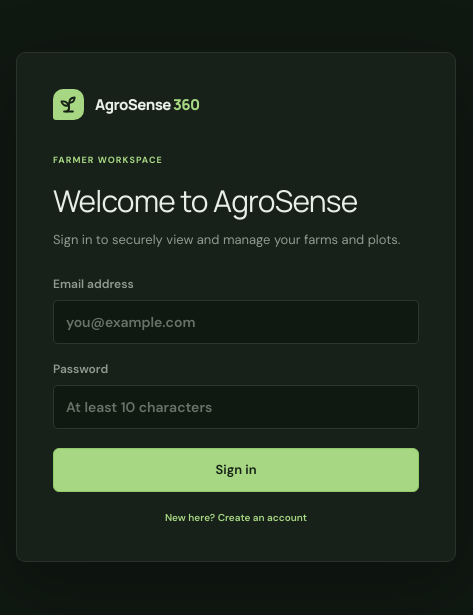
Test: App navigation › shows a clear message when the login API cannot be reached
The image size is (473, 615).
Type "farmer@example.com" into the field labelled "Email address".
click(236, 322); type("farmer@example.com")  # box [53,300,419,344]
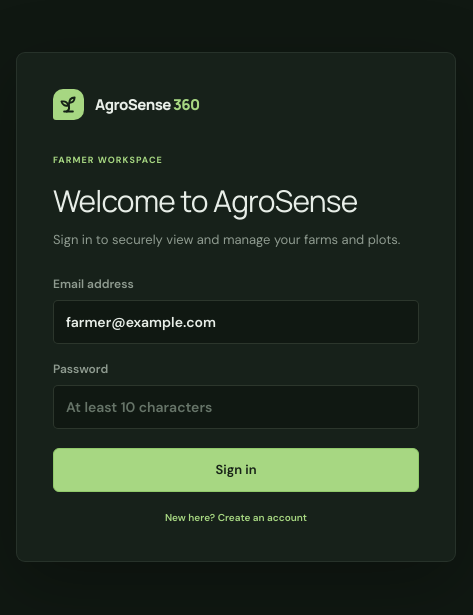
Type "a-secure-password" into the password field labelled "Password".
click(236, 407); type("a-secure-password")  # box [53,385,419,429]
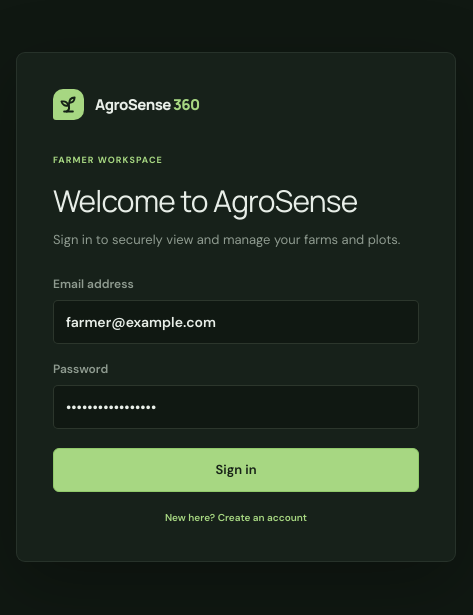
Click the button "Sign in".
click(236, 470)  # box [53,448,419,492]
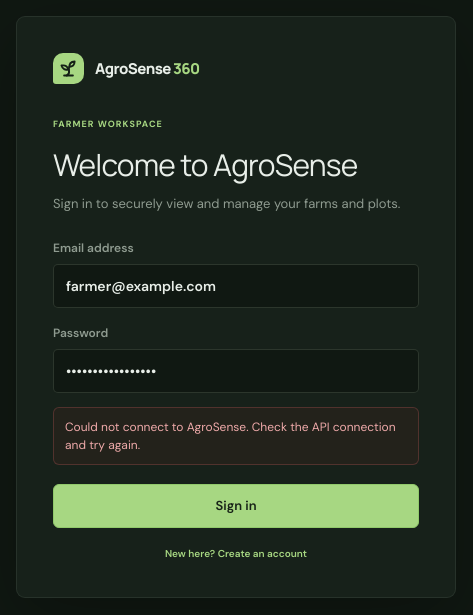
Expected: the message reads "Could not connect to AgroSense. Check the API connection and try again.", [65,419,396,453]
